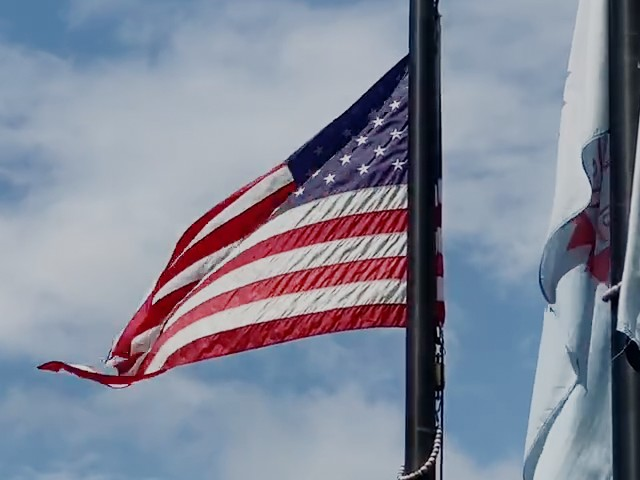America flag: (37, 50, 410, 387)
